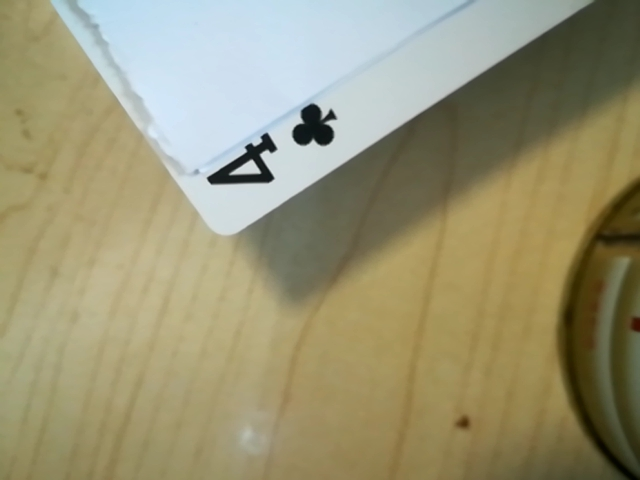mh 4: (196, 95, 354, 203)
